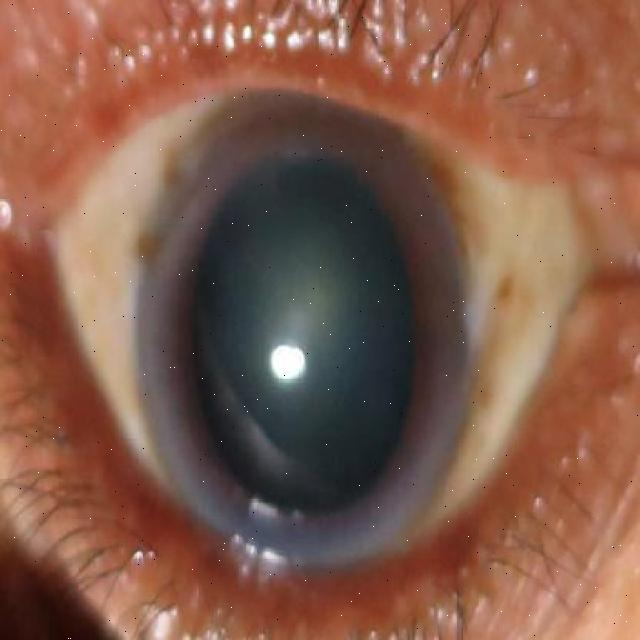Cataract: (140, 95, 477, 569)
